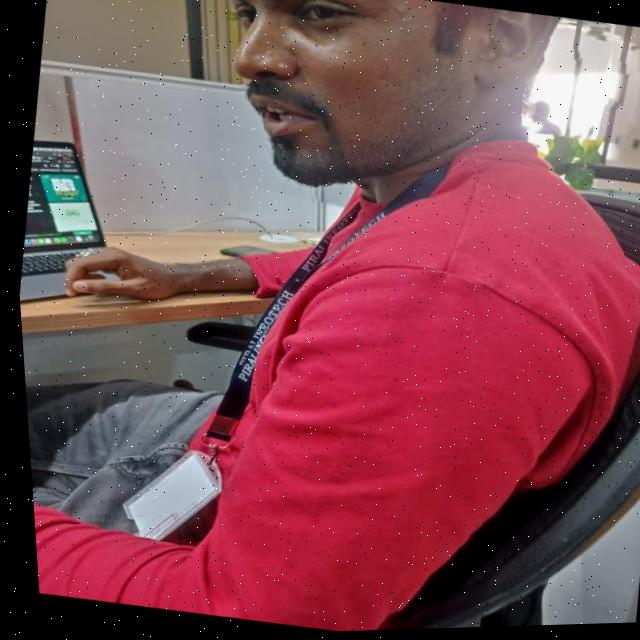id_card: (83, 130, 466, 588)
